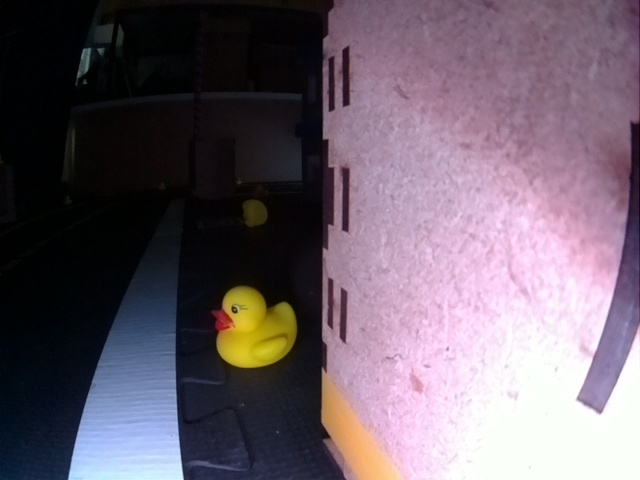Duckie: (214, 288, 297, 365), (242, 200, 267, 225), (158, 181, 167, 190), (236, 178, 244, 186)
